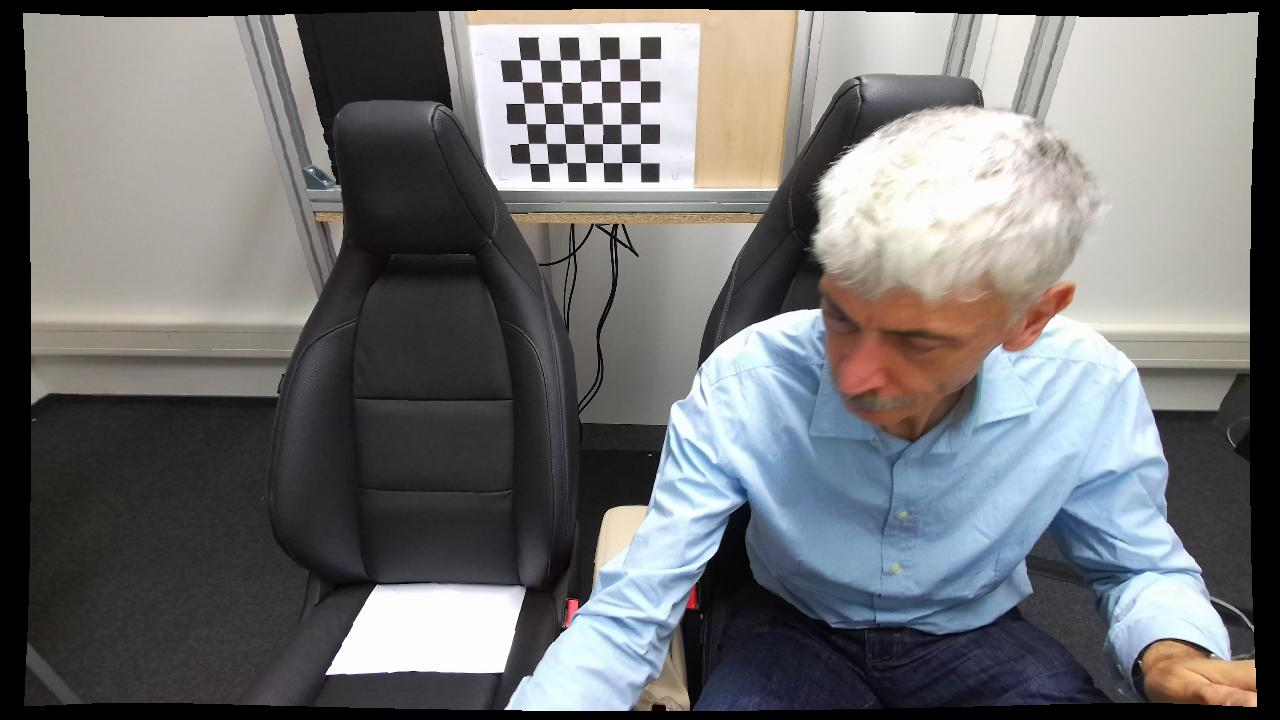Distracted: (504, 101, 1188, 712)
